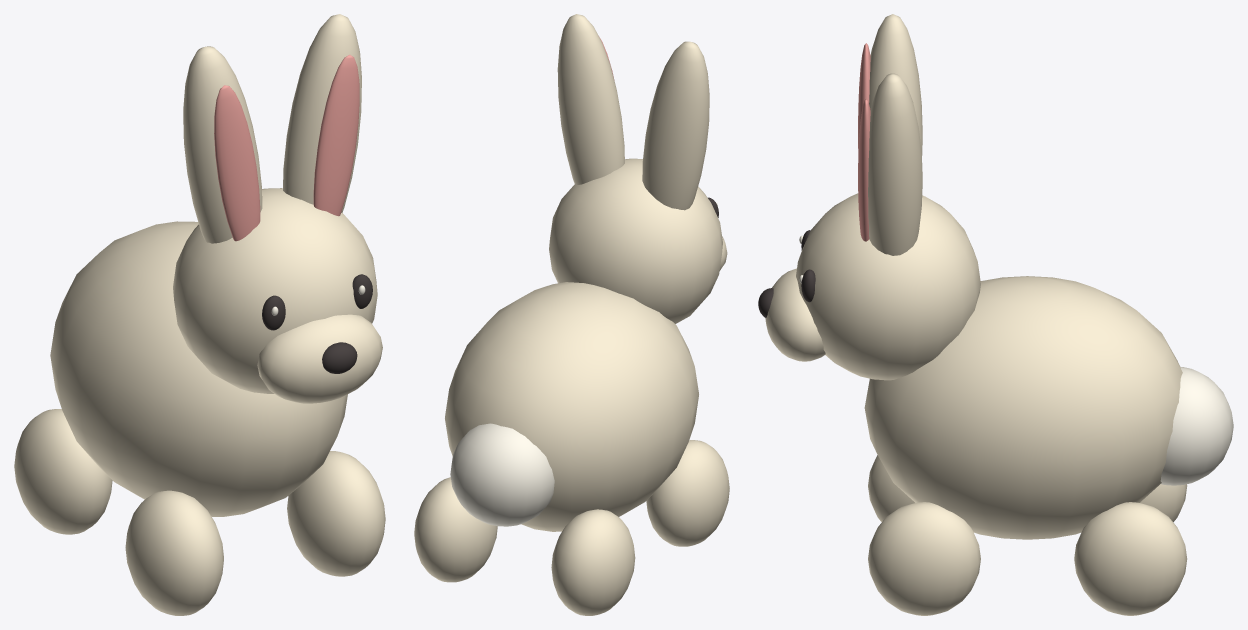
Rendered from rabbit.glb.
The picture shows the model from 3 angles, left to right: view 1: azimuth 30°, elevation 25°; view 2: azimuth 150°, elevation 25°; view 3: azimuth 270°, elevation 25°; orthographic projection. The views are drawn at different scales.
Parts seen in each view (by area): view 1: Body, Head.007, Paw.016, Paw.018, Paw.017, Muzzle.008, Long ear, Long ear.001, Inner ear.005, Inner ear.004, Nose.006, Eye.014 (+1 smaller); view 2: Body, Head.007, Long ear, Long ear.001, Cotton tail, Paw.017, Paw.016, Paw.019; view 3: Body, Head.007, Paw.018, Paw.019, Long ear.001, Cotton tail, Muzzle.008, Long ear, Paw.016, Inner ear.005, Paw.017, Inner ear.004.
Boxes of the visible parts, x1,y1,x2,y2 form: Body: (50,221,347,516); Head.007: (173,188,377,393); Paw.016: (125,490,223,615); Paw.018: (287,451,385,576); Paw.017: (14,409,112,534); Muzzle.008: (257,314,382,403); Long ear: (183,46,262,243); Long ear.001: (283,14,361,212); Inner ear.005: (313,54,359,216); Inner ear.004: (214,85,260,241); Nose.006: (322,342,357,373); Eye.014: (262,295,285,330); Body: (445,282,698,531); Head.007: (549,158,722,323); Long ear: (642,41,709,210); Long ear.001: (557,14,624,184); Cotton tail: (450,423,554,526); Paw.017: (551,509,635,615); Paw.016: (646,440,729,546); Paw.019: (414,477,497,582); Body: (864,276,1182,539); Head.007: (796,193,980,380); Paw.018: (868,502,980,615); Paw.019: (1074,502,1187,615); Long ear.001: (868,73,922,255); Cotton tail: (1160,367,1233,485); Muzzle.008: (765,268,825,361); Long ear: (869,14,922,155); Paw.016: (868,455,914,521); Inner ear.005: (858,99,870,241); Paw.017: (1140,484,1187,522); Inner ear.004: (858,43,870,150).
Bounding box in the file's own units: 0.78 × 1.77 × 1.43.
